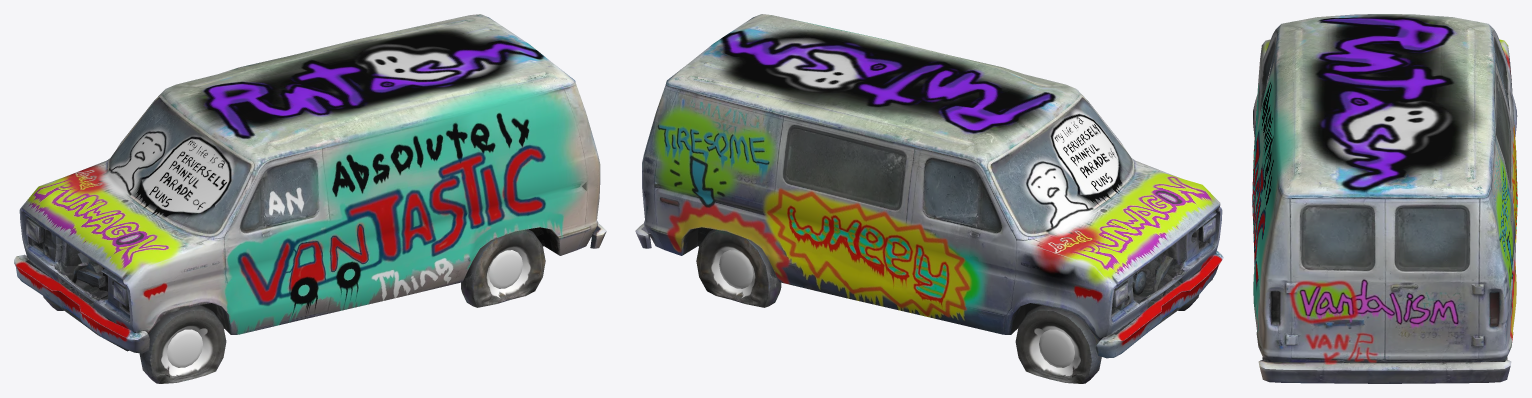
File: alley_van.low.glb
The picture shows the model from 3 angles, left to right: view 1: azimuth 30°, elevation 25°; view 2: azimuth 150°, elevation 25°; view 3: azimuth 270°, elevation 25°; orthographic projection. The views are drawn at different scales.
Visible parts, largest first — view 1: default001_Material #105_0; view 2: default001_Material #105_0; view 3: default001_Material #105_0.
Part boxes in pixels (left/top/right/bottom): default001_Material #105_0: left=14, top=14, right=606, bottom=383; default001_Material #105_0: left=635, top=14, right=1223, bottom=383; default001_Material #105_0: left=1252, top=14, right=1517, bottom=383.
Bounding box in the file's own units: 151 × 61.14 × 65.14.
1 material, 1 textured.
